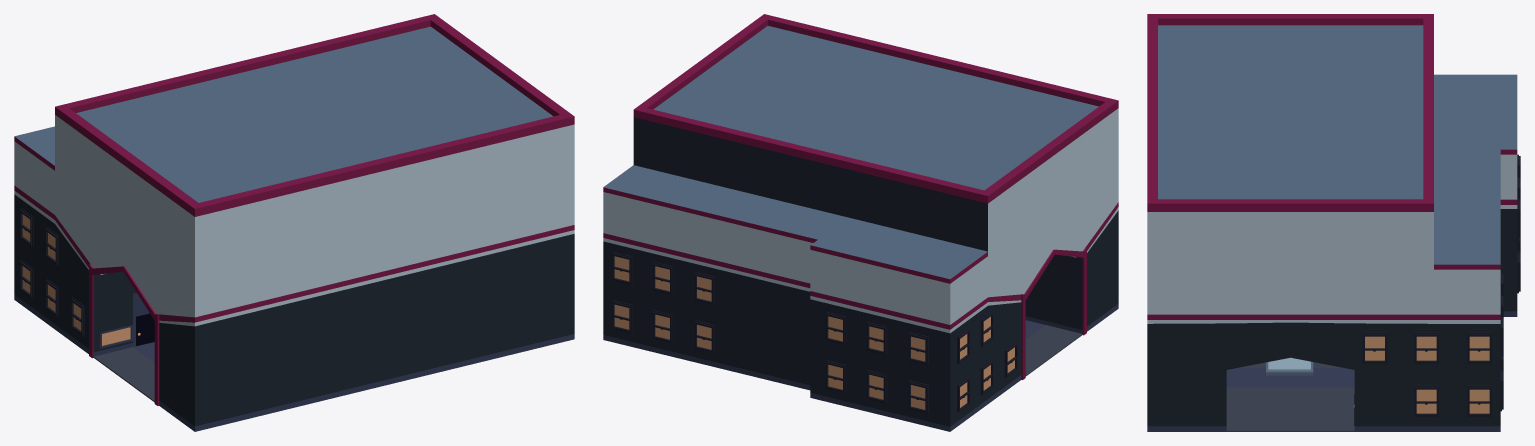
File: Building_HallofHeroes.fbx
3 views of the same model, side by side, from view 1: azimuth 30°, elevation 25°; view 2: azimuth 150°, elevation 25°; view 3: azimuth 270°, elevation 25° (orthographic). The views are drawn at different scales.
Visible parts, largest first — view 1: Cube.831, Cube.832; view 2: Cube.831; view 3: Cube.831, Cube.837.
Boxes of the visible parts, x1,y1,x2,y2 form: Cube.831: [14, 14, 574, 431]; Cube.832: [136, 313, 154, 346]; Cube.831: [603, 14, 1118, 431]; Cube.831: [1147, 14, 1520, 431]; Cube.837: [1266, 357, 1313, 375].
Size of the model in its own units: 1812 by 1007 by 1489.
